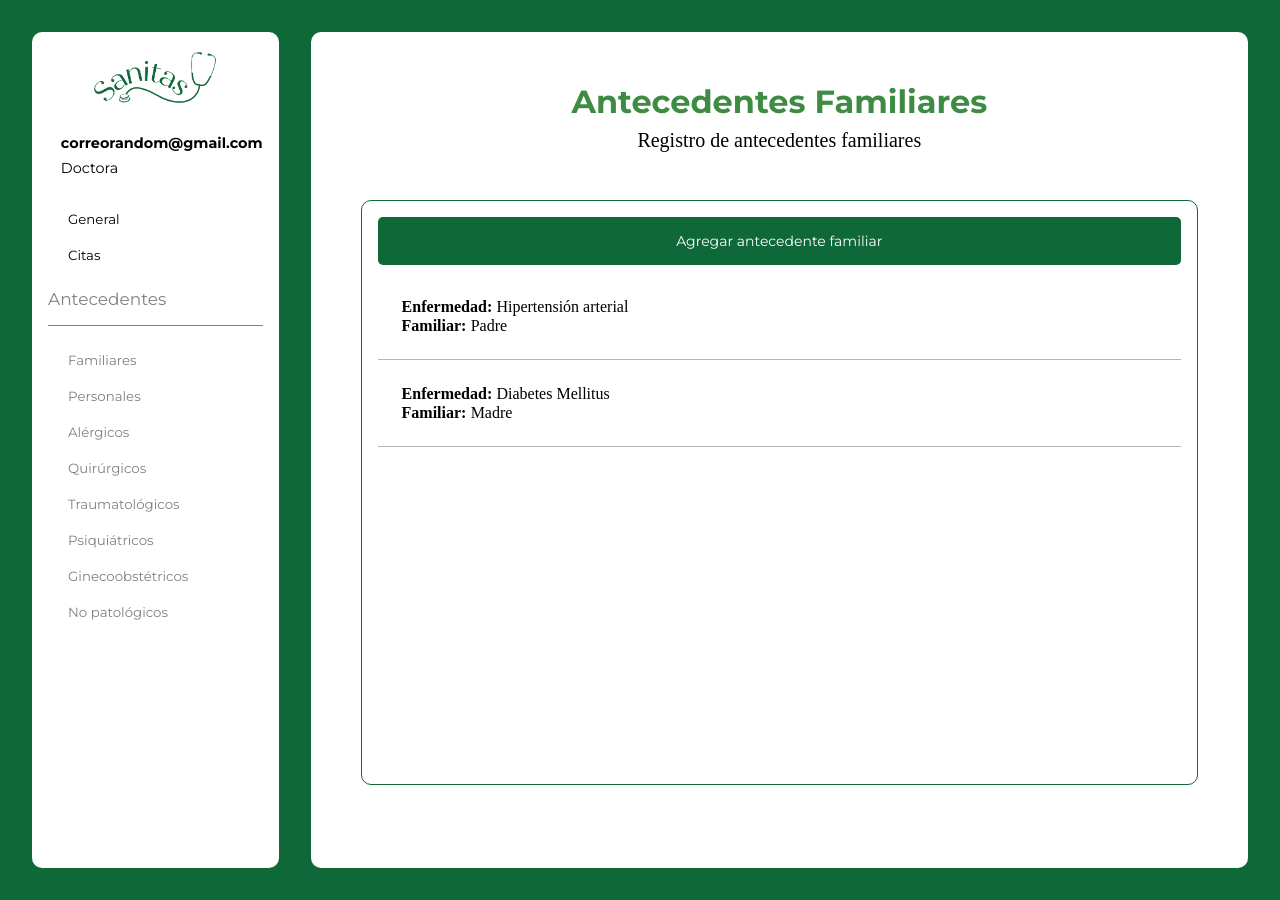
Test: FamiliarHistory Component Tests › opens new form on button click
Check: the text "Agregar antecedente familiar" is shown, box [676,232,882,250]
Click the button "Agregar antecedente familiar": click(779, 241) [378,217,1181,265]
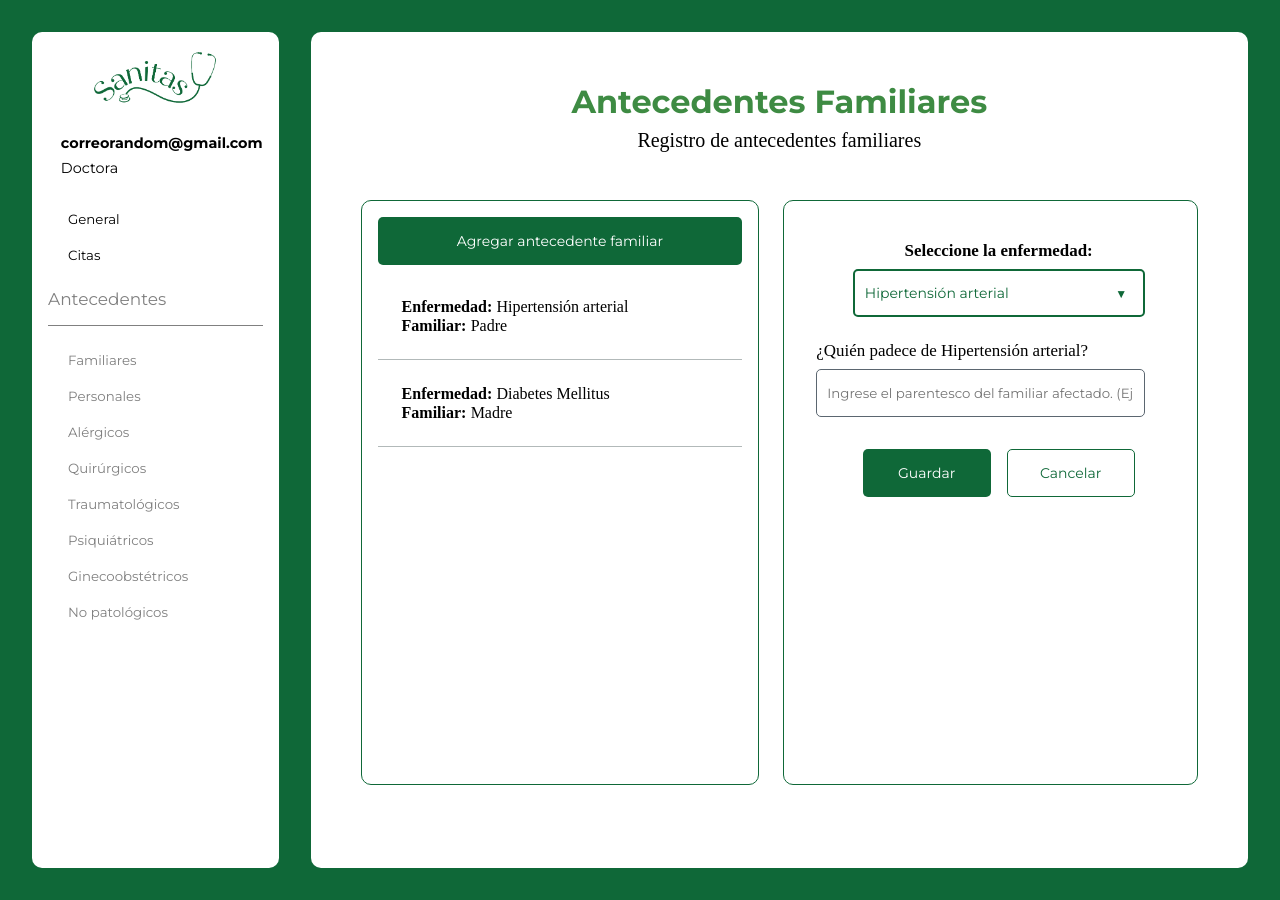
Check: the text "Guardar" is shown, box [898,464,955,482]
